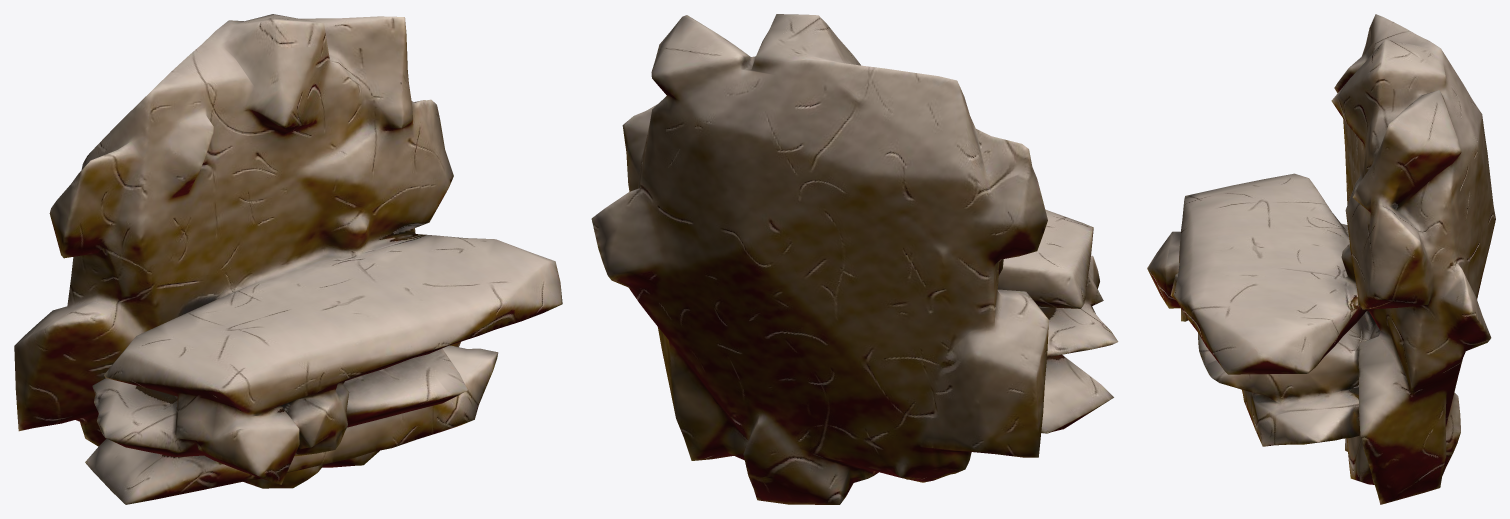
Rendered from shelf_b.glb.
3 views of the same model, side by side, from view 1: azimuth 30°, elevation 25°; view 2: azimuth 150°, elevation 25°; view 3: azimuth 270°, elevation 25° (orthographic). The views are drawn at different scales.
Visible parts, largest first — view 1: rock; view 2: rock; view 3: rock.
Boxes of the visible parts, x1,y1,x2,y2 form: rock: [14, 14, 562, 504]; rock: [591, 14, 1118, 504]; rock: [1147, 14, 1495, 504].
Bounding box in the file's own units: 0.8493 × 0.841 × 0.6218.
1 material, 1 textured.
